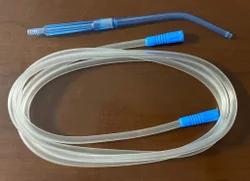Suction Tube Nozzle: (8, 15, 239, 168)
